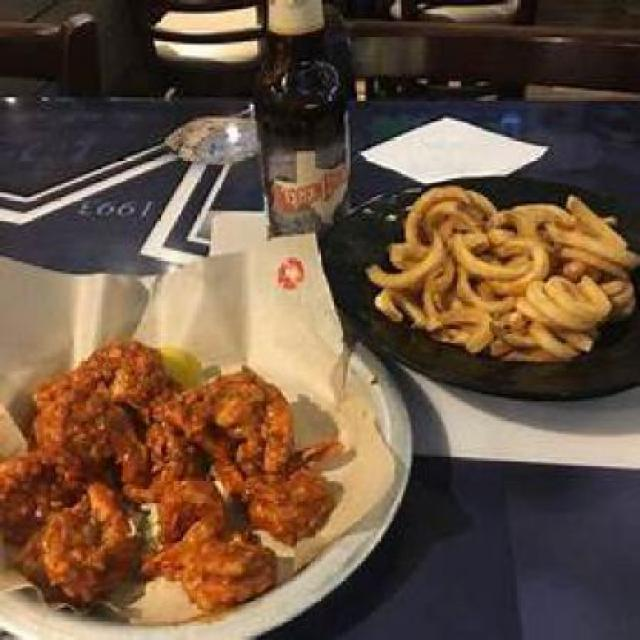chicken wings: (2, 310, 336, 610)
onion rings: (380, 174, 638, 366)
